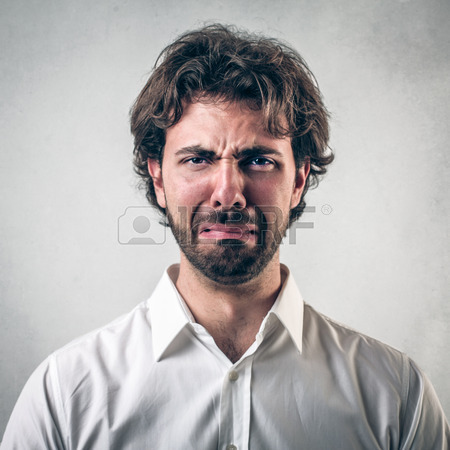sad: (151, 87, 300, 286)
